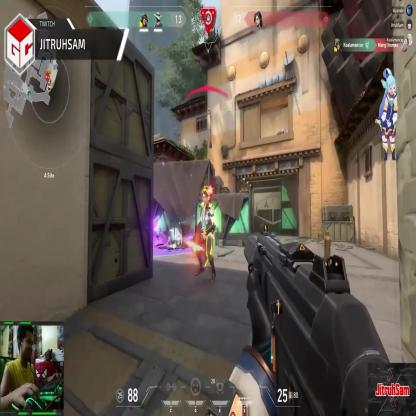enemy: (195, 189, 217, 286)
enemy_head: (202, 191, 209, 205)
